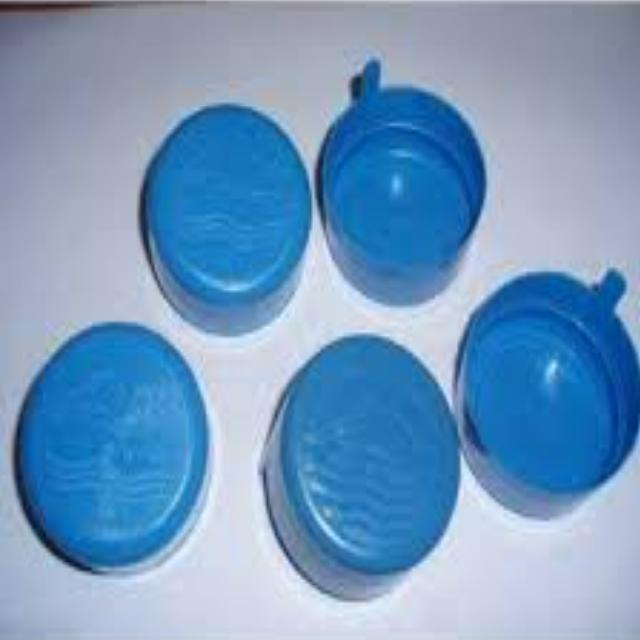TutupGalon: (5, 314, 220, 611), (250, 322, 455, 621), (447, 241, 640, 526), (314, 26, 492, 317), (147, 101, 313, 334)
